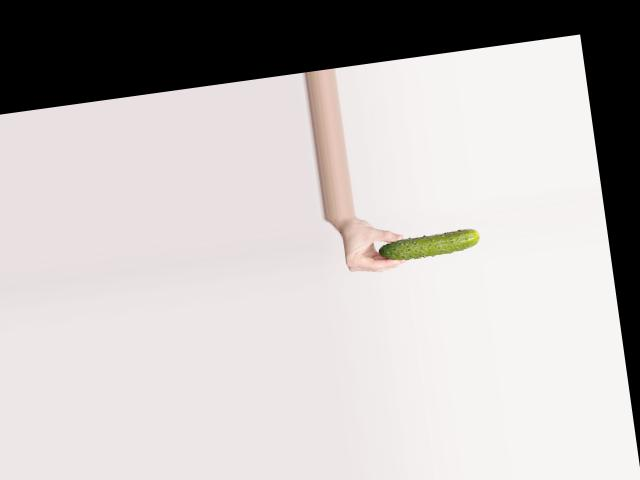cucumber: (377, 229, 480, 263)
